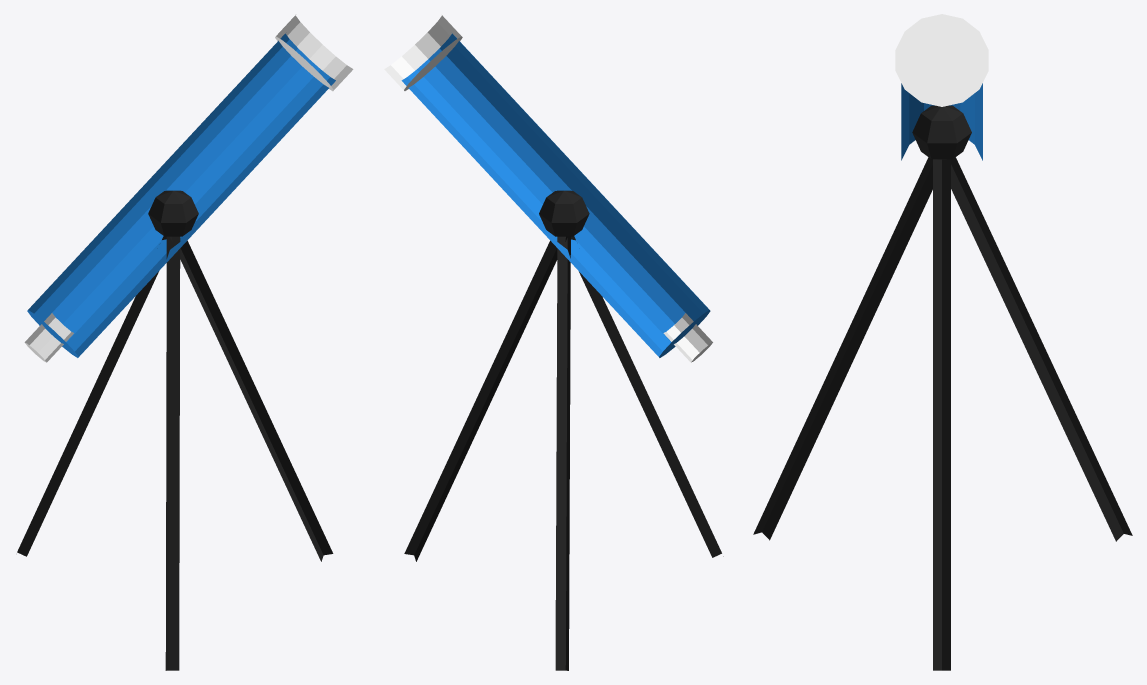
File: teleskop.glb
3 renders of one model, left to right at view 1: azimuth 30°, elevation 25°; view 2: azimuth 150°, elevation 25°; view 3: azimuth 270°, elevation 25°, orthographic. The views are drawn at different scales.
Visible parts, largest first — view 1: teleskop; view 2: teleskop; view 3: teleskop.
Part boxes in pixels (x1,y1,x2,y2): teleskop: (17, 15, 353, 670); teleskop: (384, 15, 723, 670); teleskop: (753, 14, 1132, 670).
Size of the model in its own units: 0.7264 by 1.19 by 0.6352.
